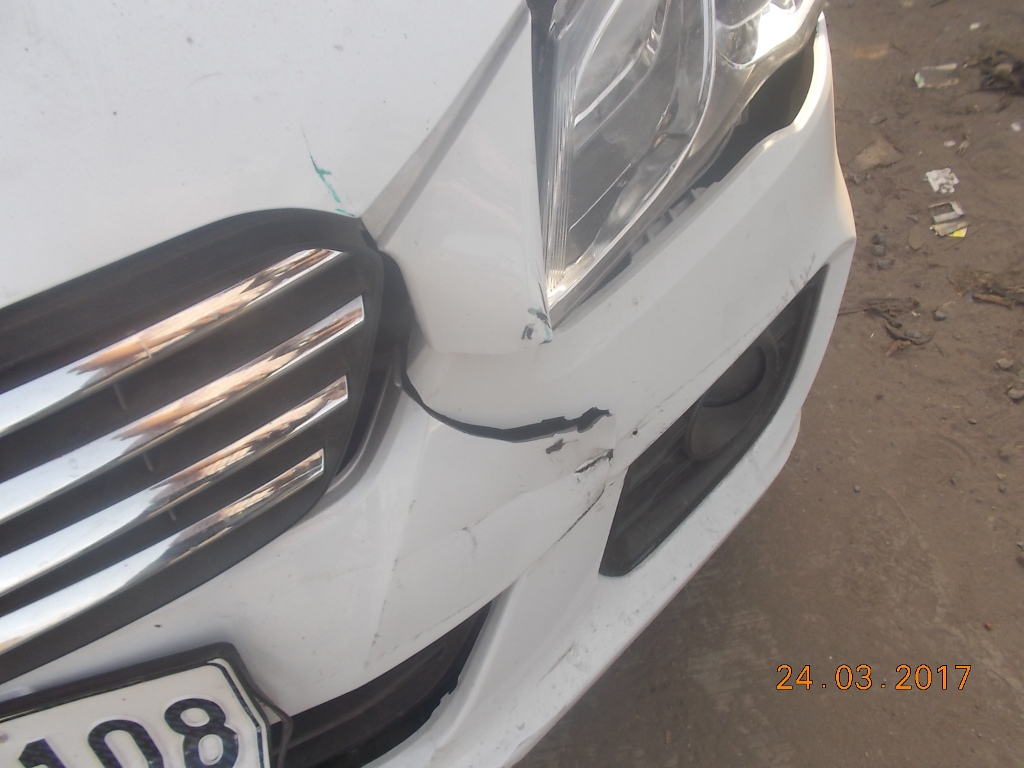Tear: (390, 363, 621, 483)
